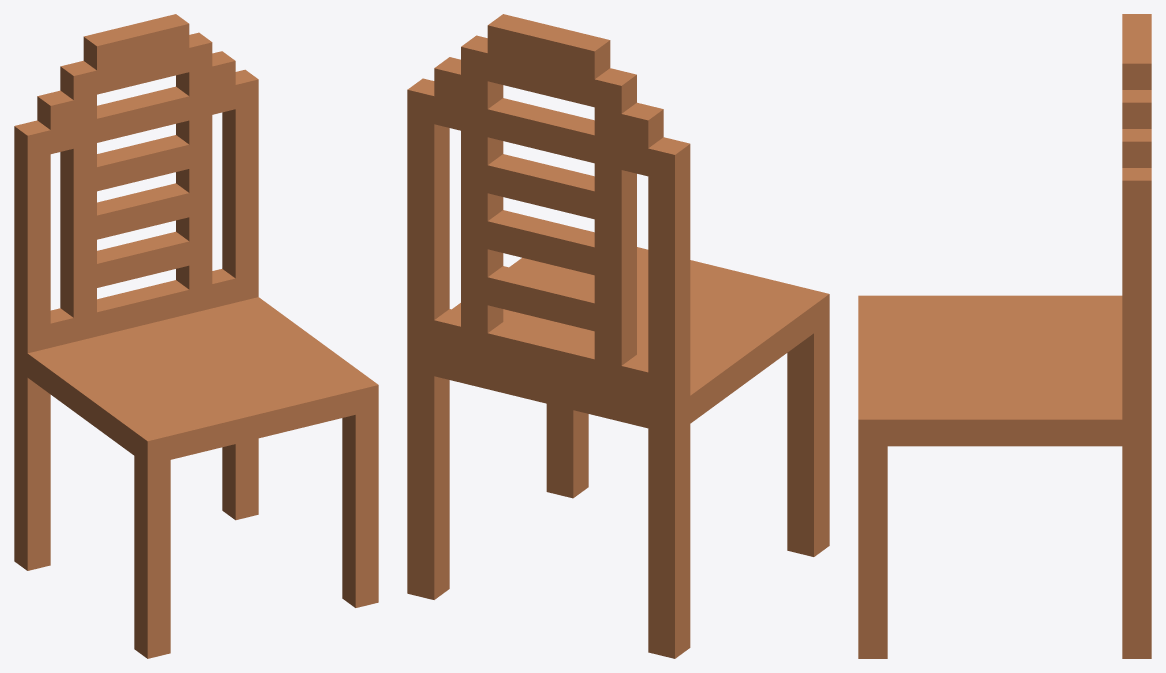
The model's file is Chair2.obj.
3 views of the same model, side by side, from view 1: azimuth 30°, elevation 25°; view 2: azimuth 150°, elevation 25°; view 3: azimuth 270°, elevation 25° (orthographic). The views are drawn at different scales.
Size of the model in its own units: 1 by 2.1 by 1.
1 material, 1 textured.
